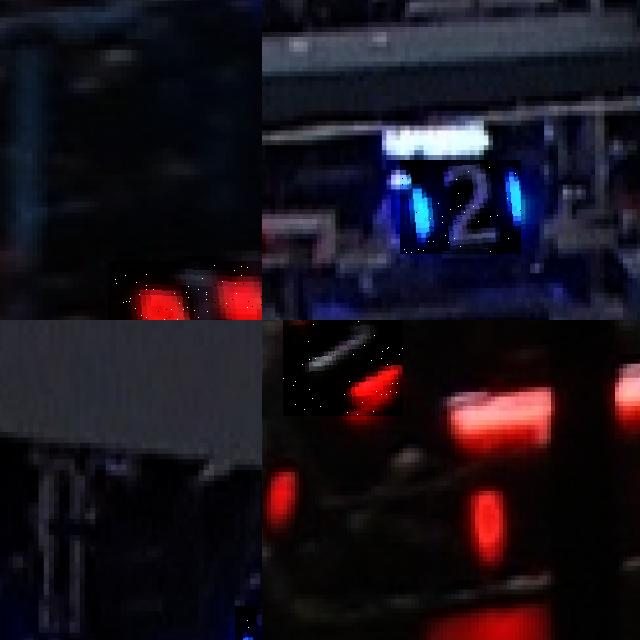B2: (400, 160, 521, 254)
R1: (283, 320, 403, 415)
R2: (108, 261, 262, 320)
